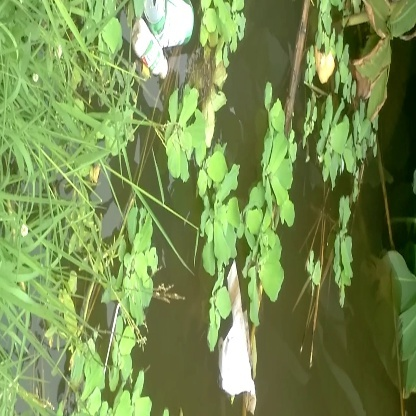plastic-bag: (215, 270, 266, 410)
